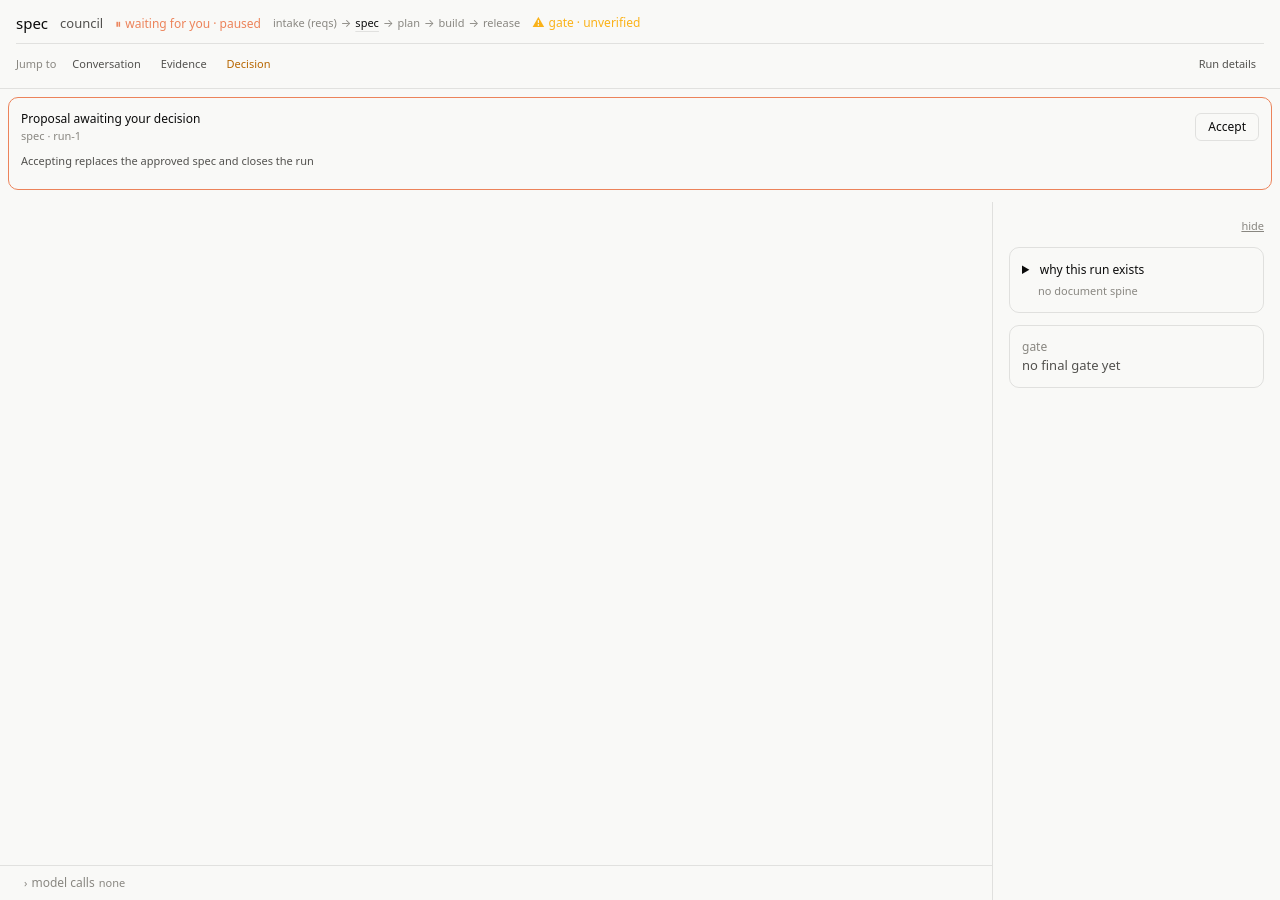
Test: RunView publication consequences › does not mislabel an unrelated accept warning as a failed push
This screenshot has width=1280, height=900.
Click the button with test id "cycle-accept": (1227,127) 1195,113 -> 1259,141
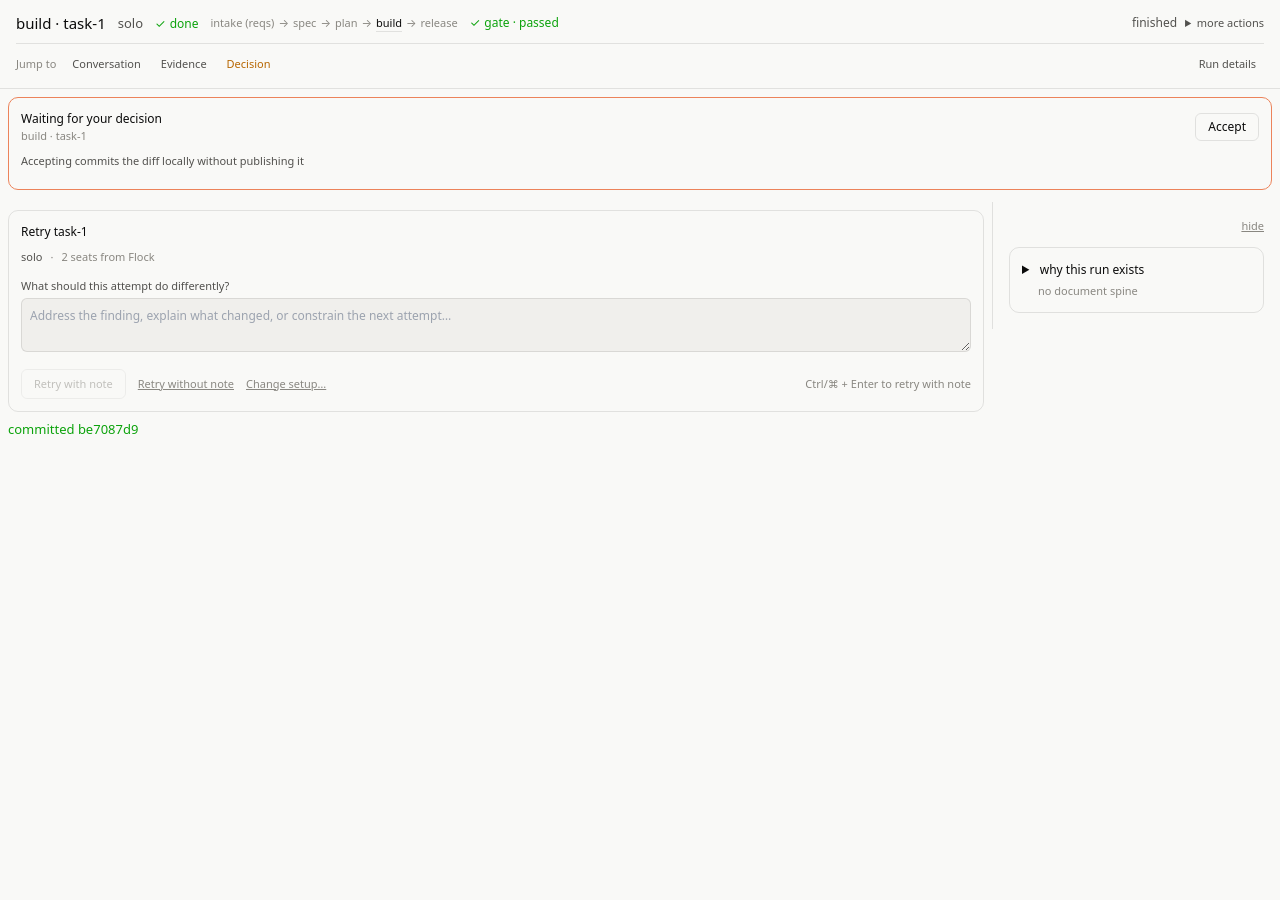
Check: the text with test id "accept-committed" reads "committed be7087d9", box 8,420 -> 138,438
